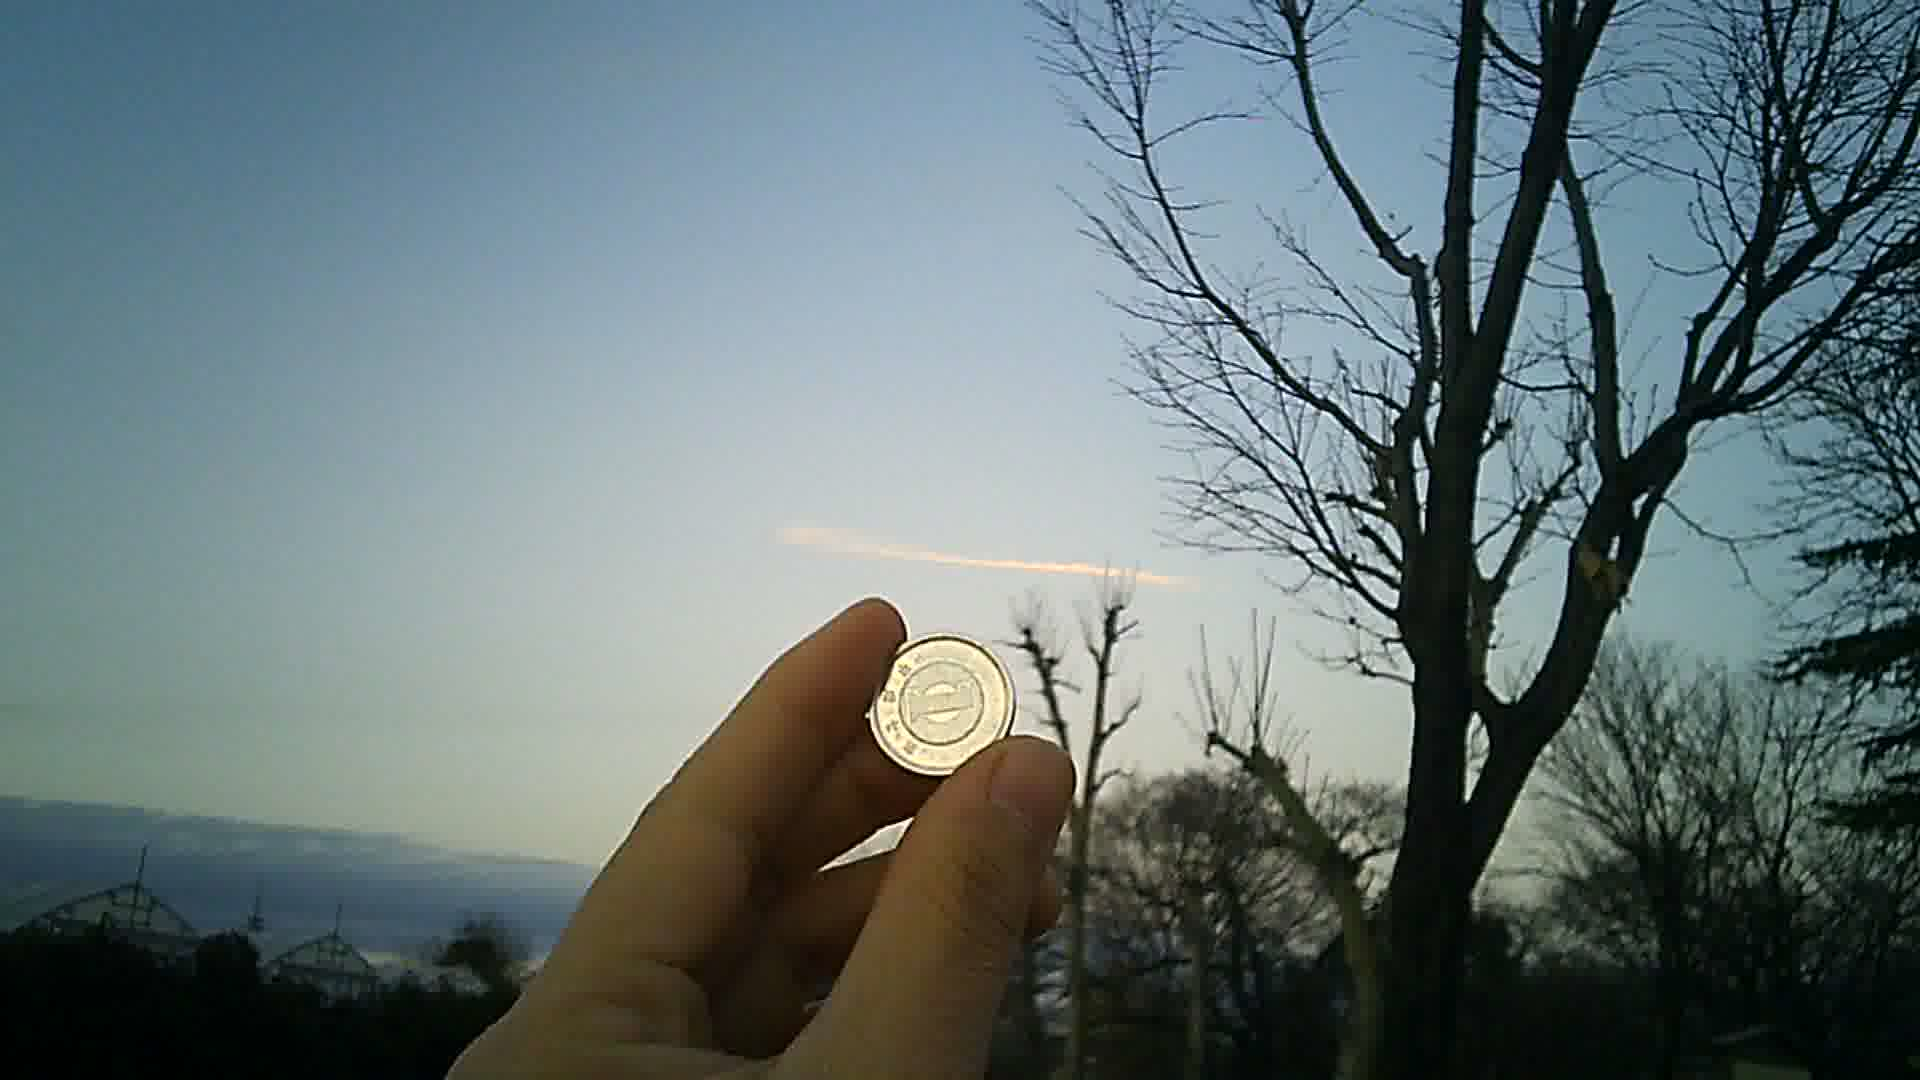1 Yen: (865, 622, 1025, 779)
